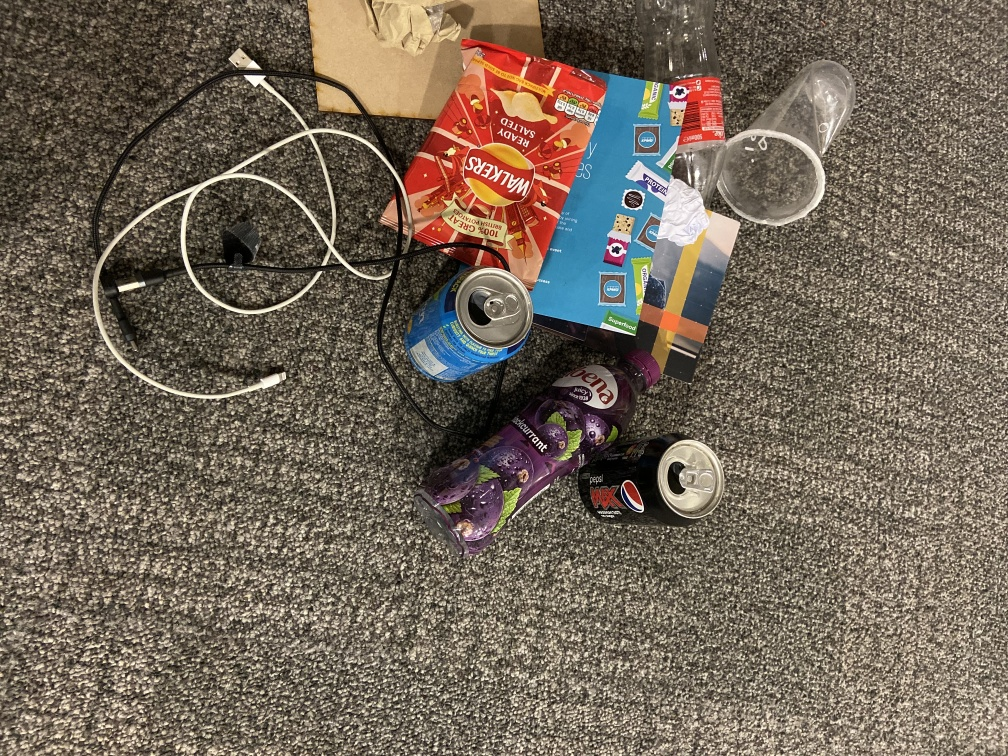bottle_purple: (414, 344, 662, 556)
bottle_red: (640, 1, 729, 208)
can_black: (578, 432, 733, 528)
can_blue: (405, 268, 537, 385)
paper_brown: (364, 1, 466, 56)
paper_white: (656, 172, 713, 250)
